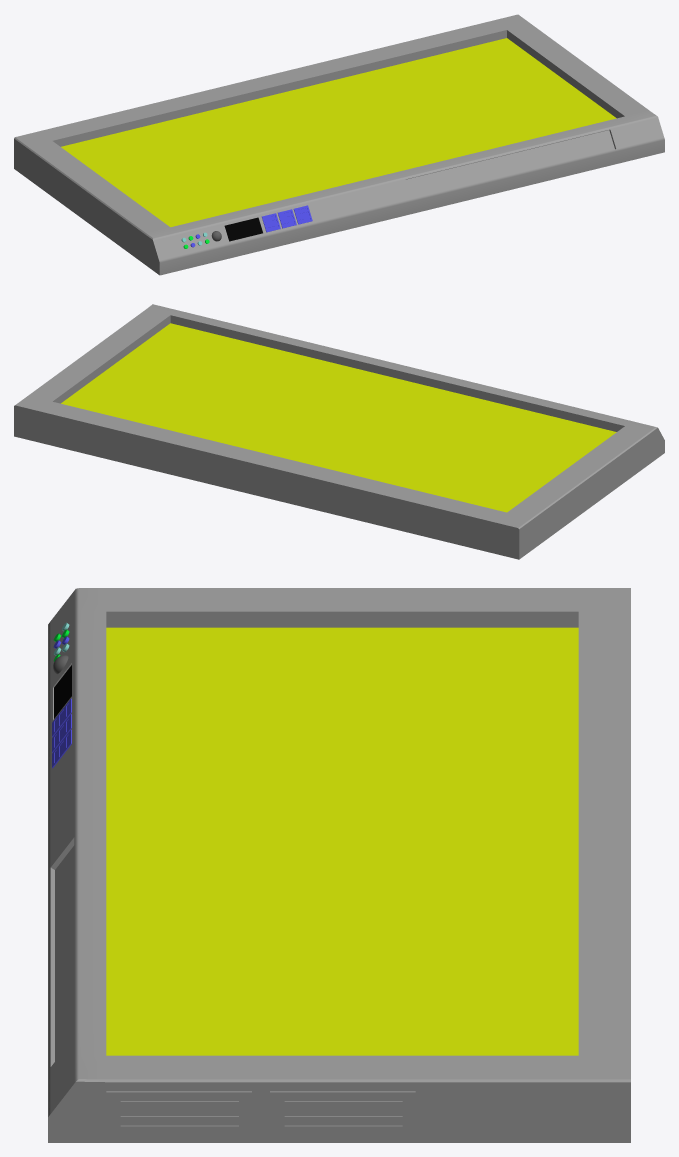
Rendered from planter_03.fbx.
3 renders of one model, top to bottom at view 1: azimuth 30°, elevation 25°; view 2: azimuth 150°, elevation 25°; view 3: azimuth 270°, elevation 25°, orthographic. The views are drawn at different scales.
Parts seen in each view (by area): view 1: planter_03; view 2: planter_03; view 3: planter_03.
Boxes of the visible parts, x1=… form: planter_03: x1=14, y1=14, x2=664, y2=275; planter_03: x1=14, y1=304, x2=664, y2=559; planter_03: x1=48, y1=588, x2=630, y2=1142.
Size of the model in its own units: 8.02 by 0.475 by 4.
